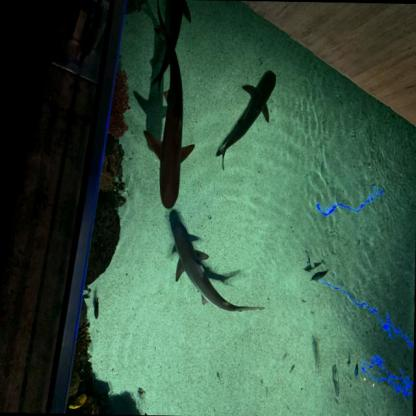fish: (66, 389, 88, 414), (330, 359, 342, 403), (310, 266, 330, 283), (92, 294, 100, 322)
shark: (141, 0, 198, 209), (168, 209, 268, 314), (215, 69, 277, 174), (149, 0, 194, 99)
